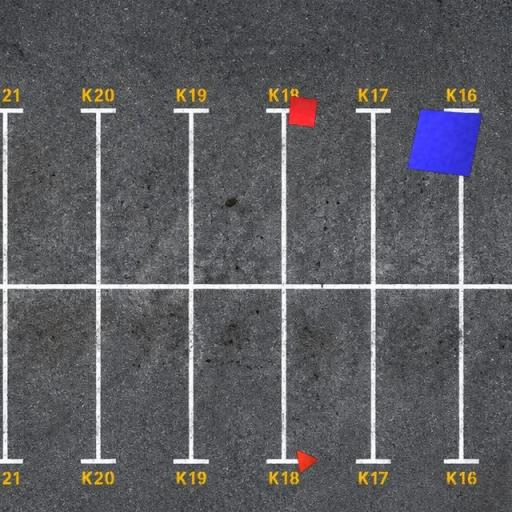BLUE_SQUARE: (406, 108, 484, 178)
RED_SQUARE: (288, 96, 318, 128)
